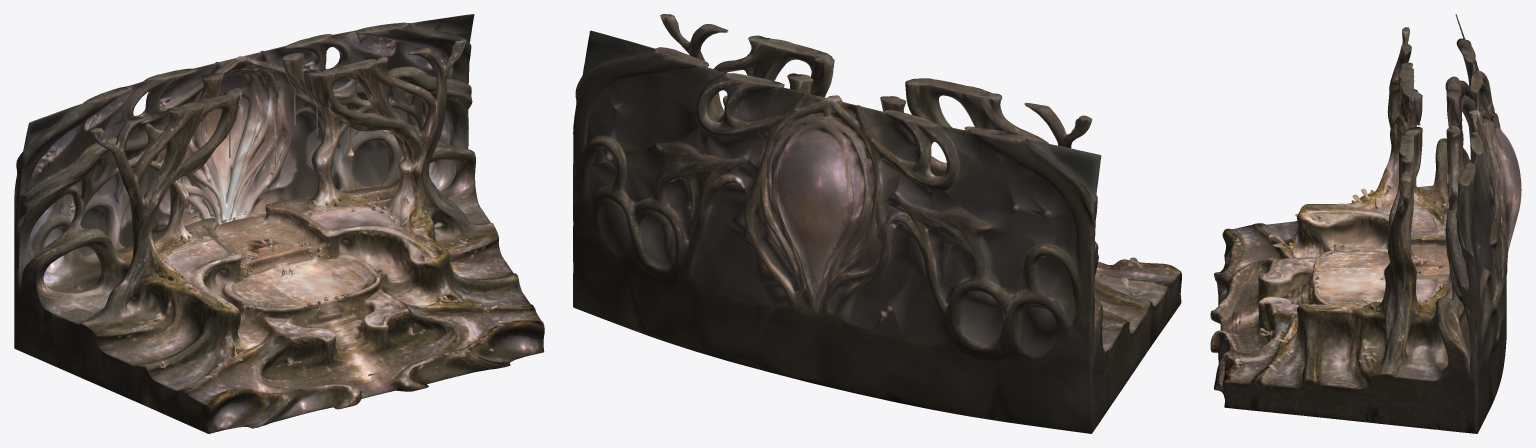
Rendered from altar.glb.
The picture shows the model from 3 angles, left to right: view 1: azimuth 30°, elevation 25°; view 2: azimuth 150°, elevation 25°; view 3: azimuth 270°, elevation 25°; orthographic projection. The views are drawn at different scales.
Visible parts, largest first — view 1: tripo_node_86229456-cfd3-4aab-8d34-503446e4612c; view 2: tripo_node_86229456-cfd3-4aab-8d34-503446e4612c; view 3: tripo_node_86229456-cfd3-4aab-8d34-503446e4612c.
Part boxes in pixels (left/top/right/bottom): tripo_node_86229456-cfd3-4aab-8d34-503446e4612c: left=14, top=14, right=544, bottom=433; tripo_node_86229456-cfd3-4aab-8d34-503446e4612c: left=573, top=14, right=1181, bottom=433; tripo_node_86229456-cfd3-4aab-8d34-503446e4612c: left=1210, top=14, right=1521, bottom=433.
Bounding box in the file's own units: 0.9806 × 0.4924 × 0.6293.
Materials: 1 (1 with a texture image).
